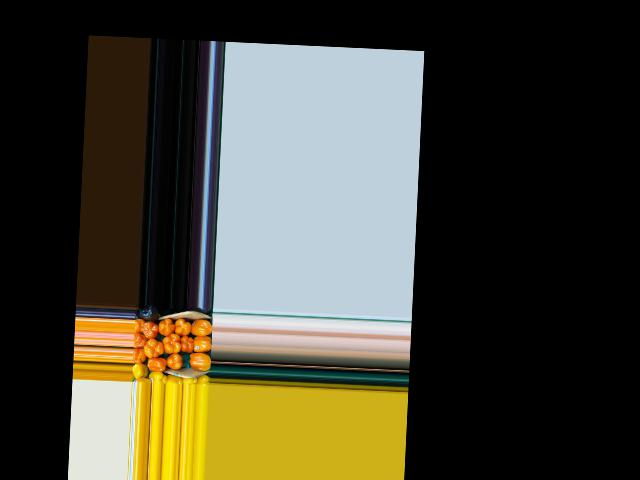bell_pepper: (148, 371, 170, 382)
